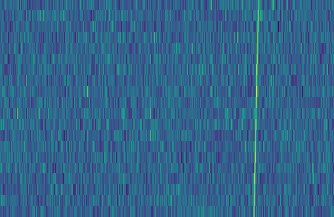signal: (250, 0, 264, 217)
